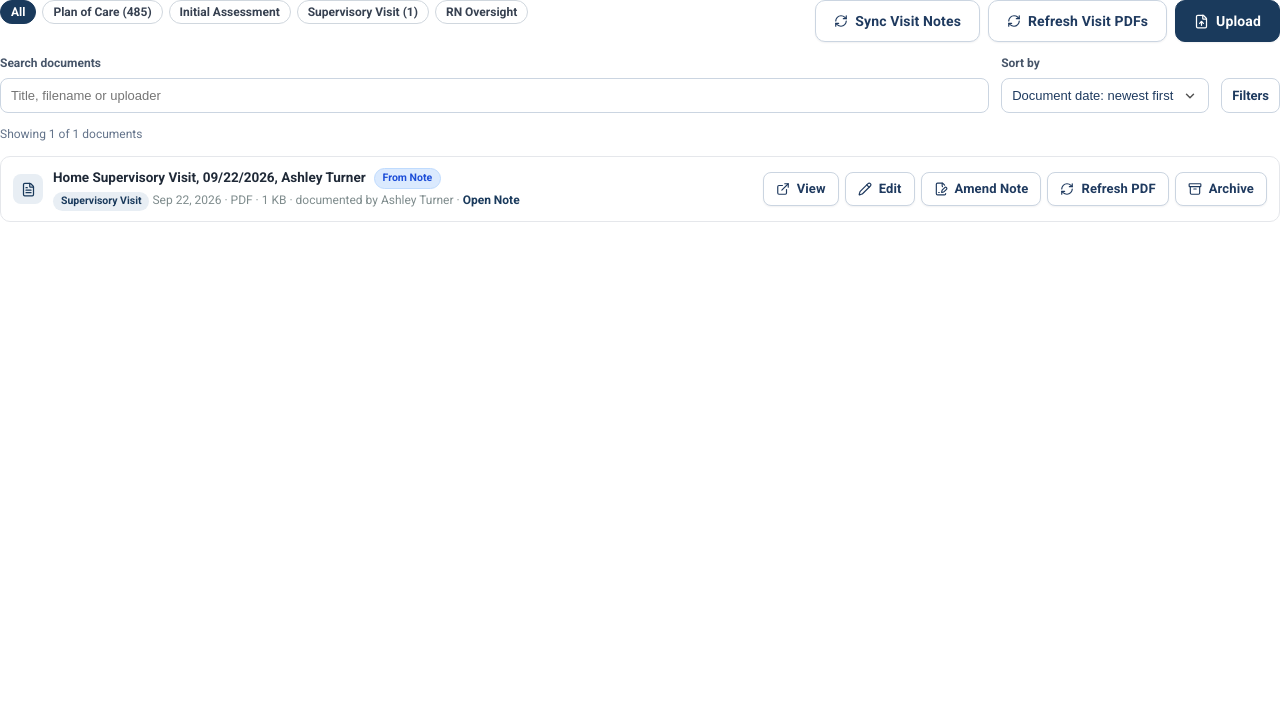
Test: DocumentsSection, entries filed from a note › offers Edit beside Amend Note and Refresh PDF, and the dialog explains the difference
Expected: the button "Refresh PDF" is shown, [1047, 172, 1169, 206]
What coordinates should you click on to do the following:
click the button "Edit"
I would click on:
 (880, 189)
Its box is [845, 172, 915, 206].
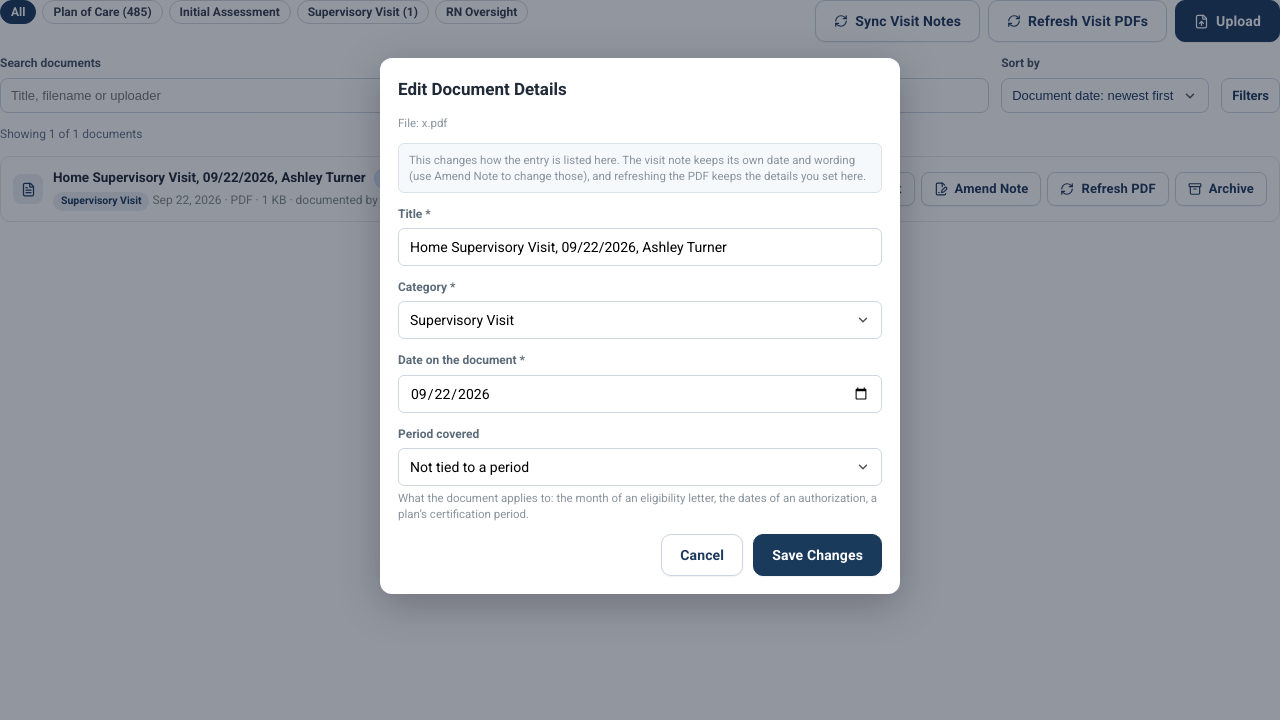
Expected: the text "The visit note keeps its own date and wording" is shown, [409, 153, 866, 183]
